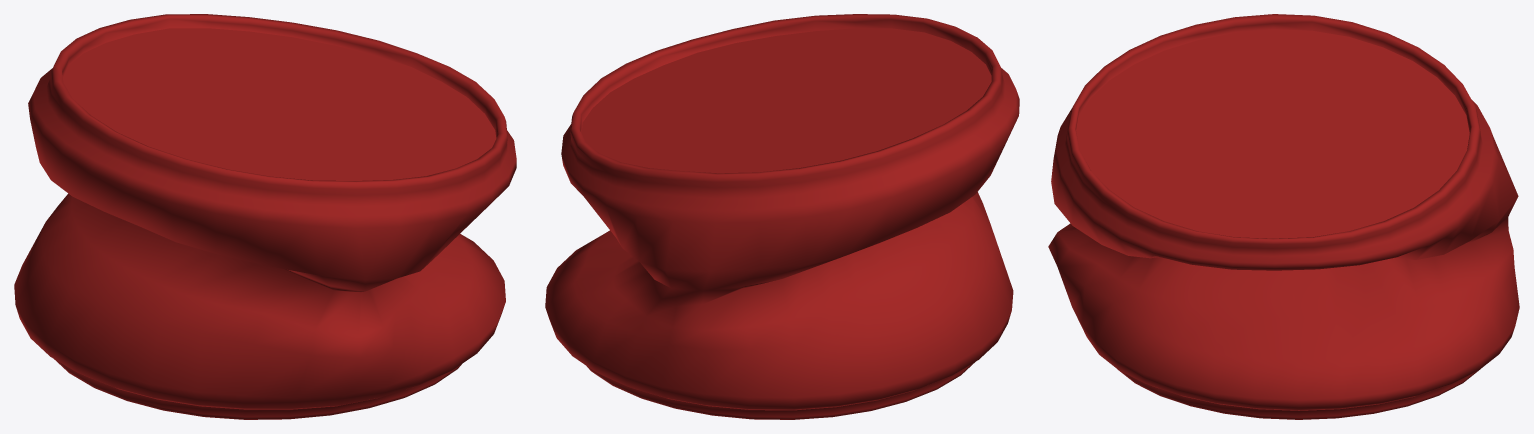
File: Can_Crush3.fbx
3 views of the same model, side by side, from view 1: azimuth 30°, elevation 25°; view 2: azimuth 150°, elevation 25°; view 3: azimuth 270°, elevation 25° (orthographic). The views are drawn at different scales.
Visible parts, largest first — view 1: Can_Crush3; view 2: Can_Crush3; view 3: Can_Crush3.
Part boxes in pixels (left/top/right/bottom): Can_Crush3: left=14, top=14, right=516, bottom=419; Can_Crush3: left=545, top=14, right=1019, bottom=419; Can_Crush3: left=1048, top=14, right=1519, bottom=419.
Bounding box in the file's own units: 20.14 × 12.18 × 21.53.
